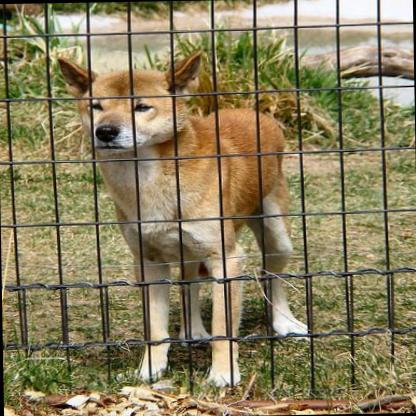dingo: (47, 42, 302, 386)
